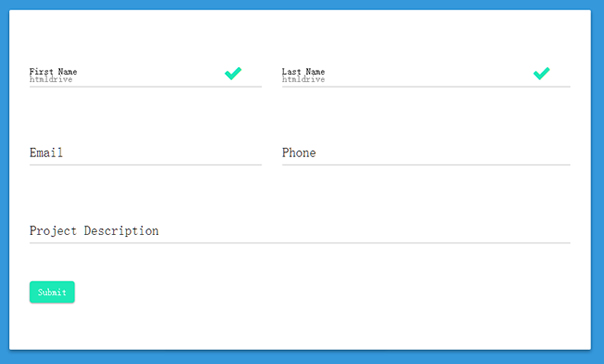_form_: (175, 1, 592, 364), (1, 1, 416, 364)
button: (28, 279, 76, 305)
field_line: (26, 218, 574, 245), (280, 61, 571, 88), (279, 141, 570, 168), (25, 140, 265, 169), (26, 62, 263, 90)
